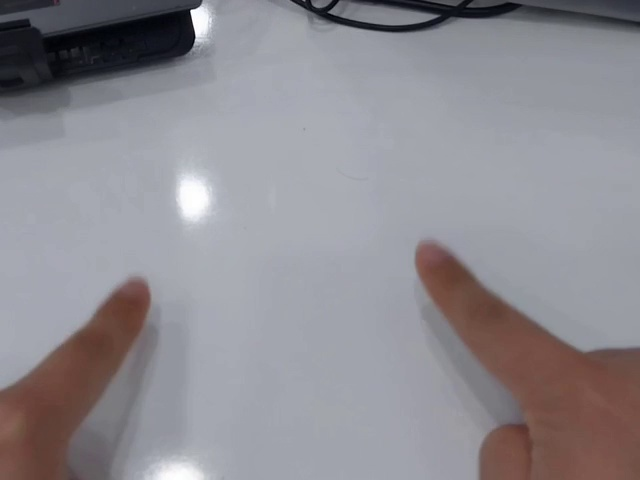fingers: (413, 237, 467, 295), (99, 273, 151, 331)
